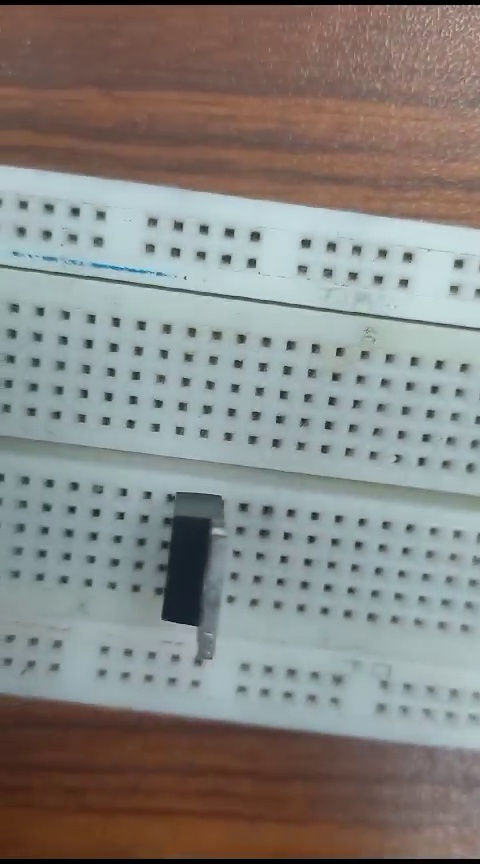voltage regulator: (129, 493, 244, 665)
